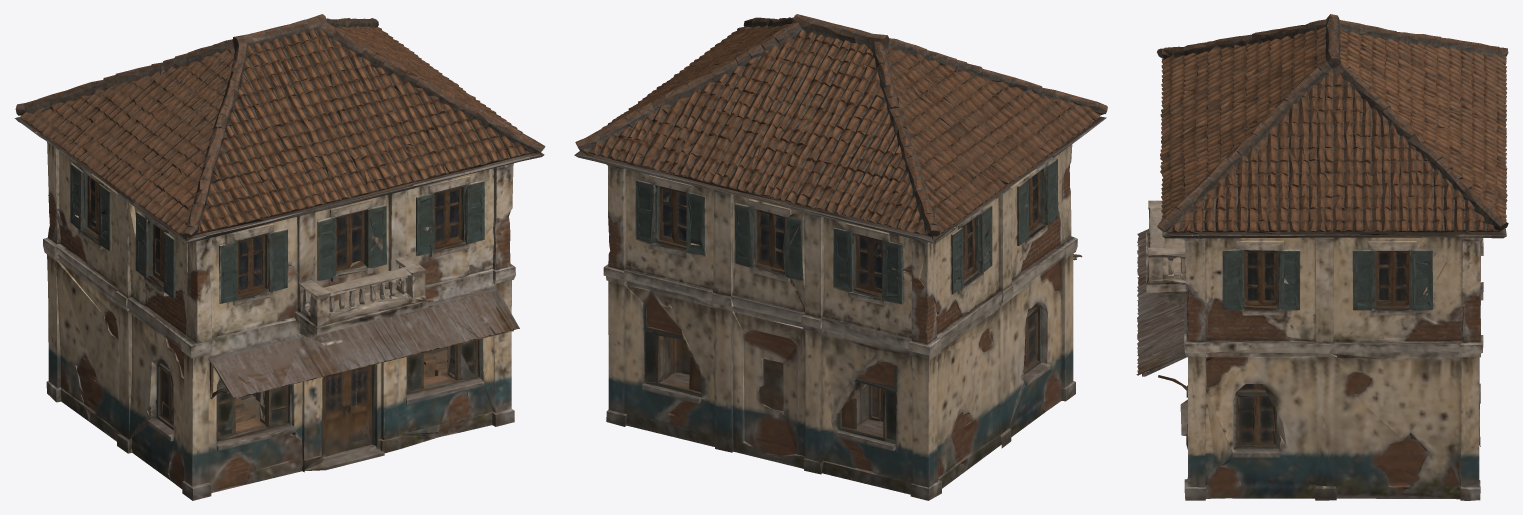
The model's file is Meshy_AI_Photorealistic_1940s__1113185619_texture.glb.
3 renders of one model, left to right at view 1: azimuth 30°, elevation 25°; view 2: azimuth 150°, elevation 25°; view 3: azimuth 270°, elevation 25°, orthographic.
Parts seen in each view (by area): view 1: output_unwrapped; view 2: output_unwrapped; view 3: output_unwrapped.
Part boxes in pixels (<box>): output_unwrapped: <box>14,14,545,500</box>; output_unwrapped: <box>574,14,1107,500</box>; output_unwrapped: <box>1136,14,1508,500</box>.
Bounding box in the file's own units: 1.89 × 1.9 × 1.66.
1 material, 1 textured.
